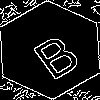B: (25, 25, 84, 82)
